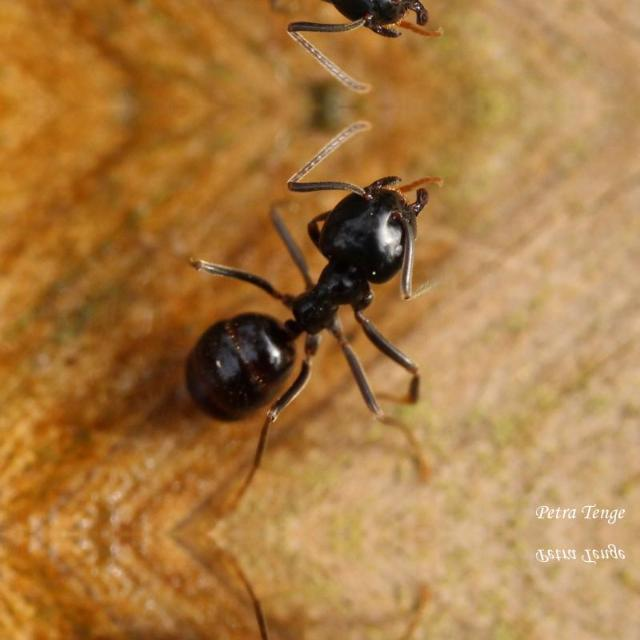Lasius: (140, 136, 480, 462), (140, 0, 478, 76)
